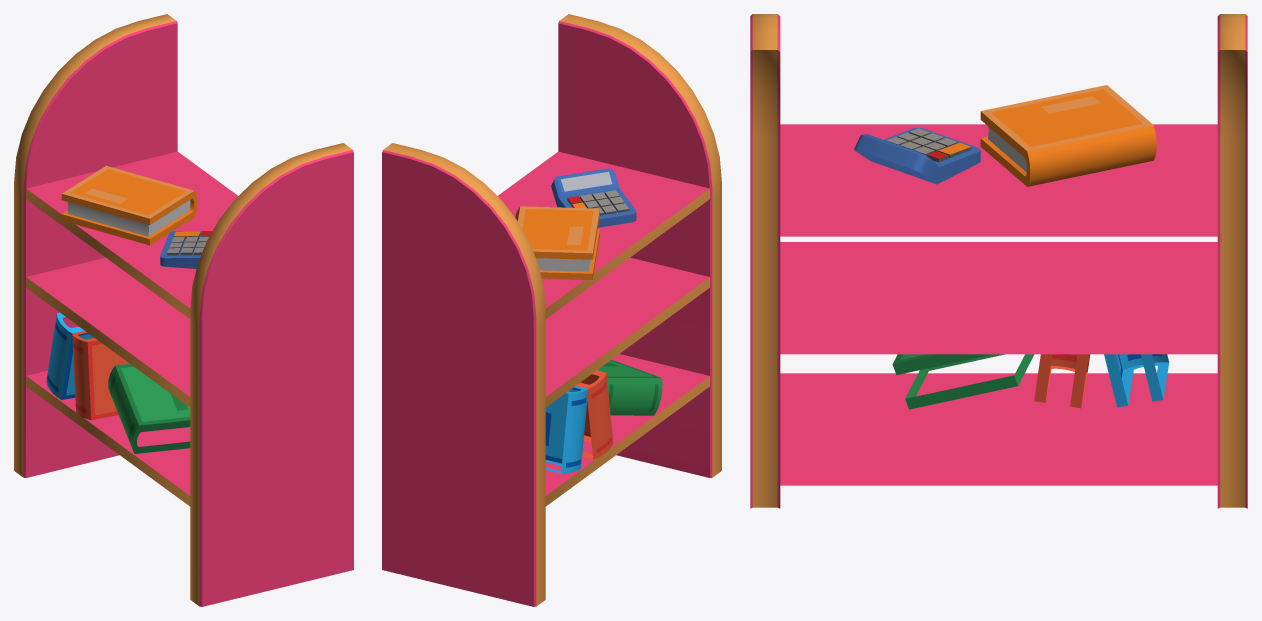
The model's file is Book Shelf LEVEL-3.fbx.
3 renders of one model, left to right at view 1: azimuth 30°, elevation 25°; view 2: azimuth 150°, elevation 25°; view 3: azimuth 270°, elevation 25°, orthographic. The views are drawn at different scales.
Parts seen in each view (by area): view 1: Book Shelf LEVEL-3; view 2: Book Shelf LEVEL-3; view 3: Book Shelf LEVEL-3.
Boxes of the visible parts, bbox=[...] form: Book Shelf LEVEL-3: bbox=[14, 14, 353, 606]; Book Shelf LEVEL-3: bbox=[382, 14, 721, 606]; Book Shelf LEVEL-3: bbox=[750, 14, 1247, 508].
Bounding box in the file's own units: 4.78 × 12.16 × 9.84.
